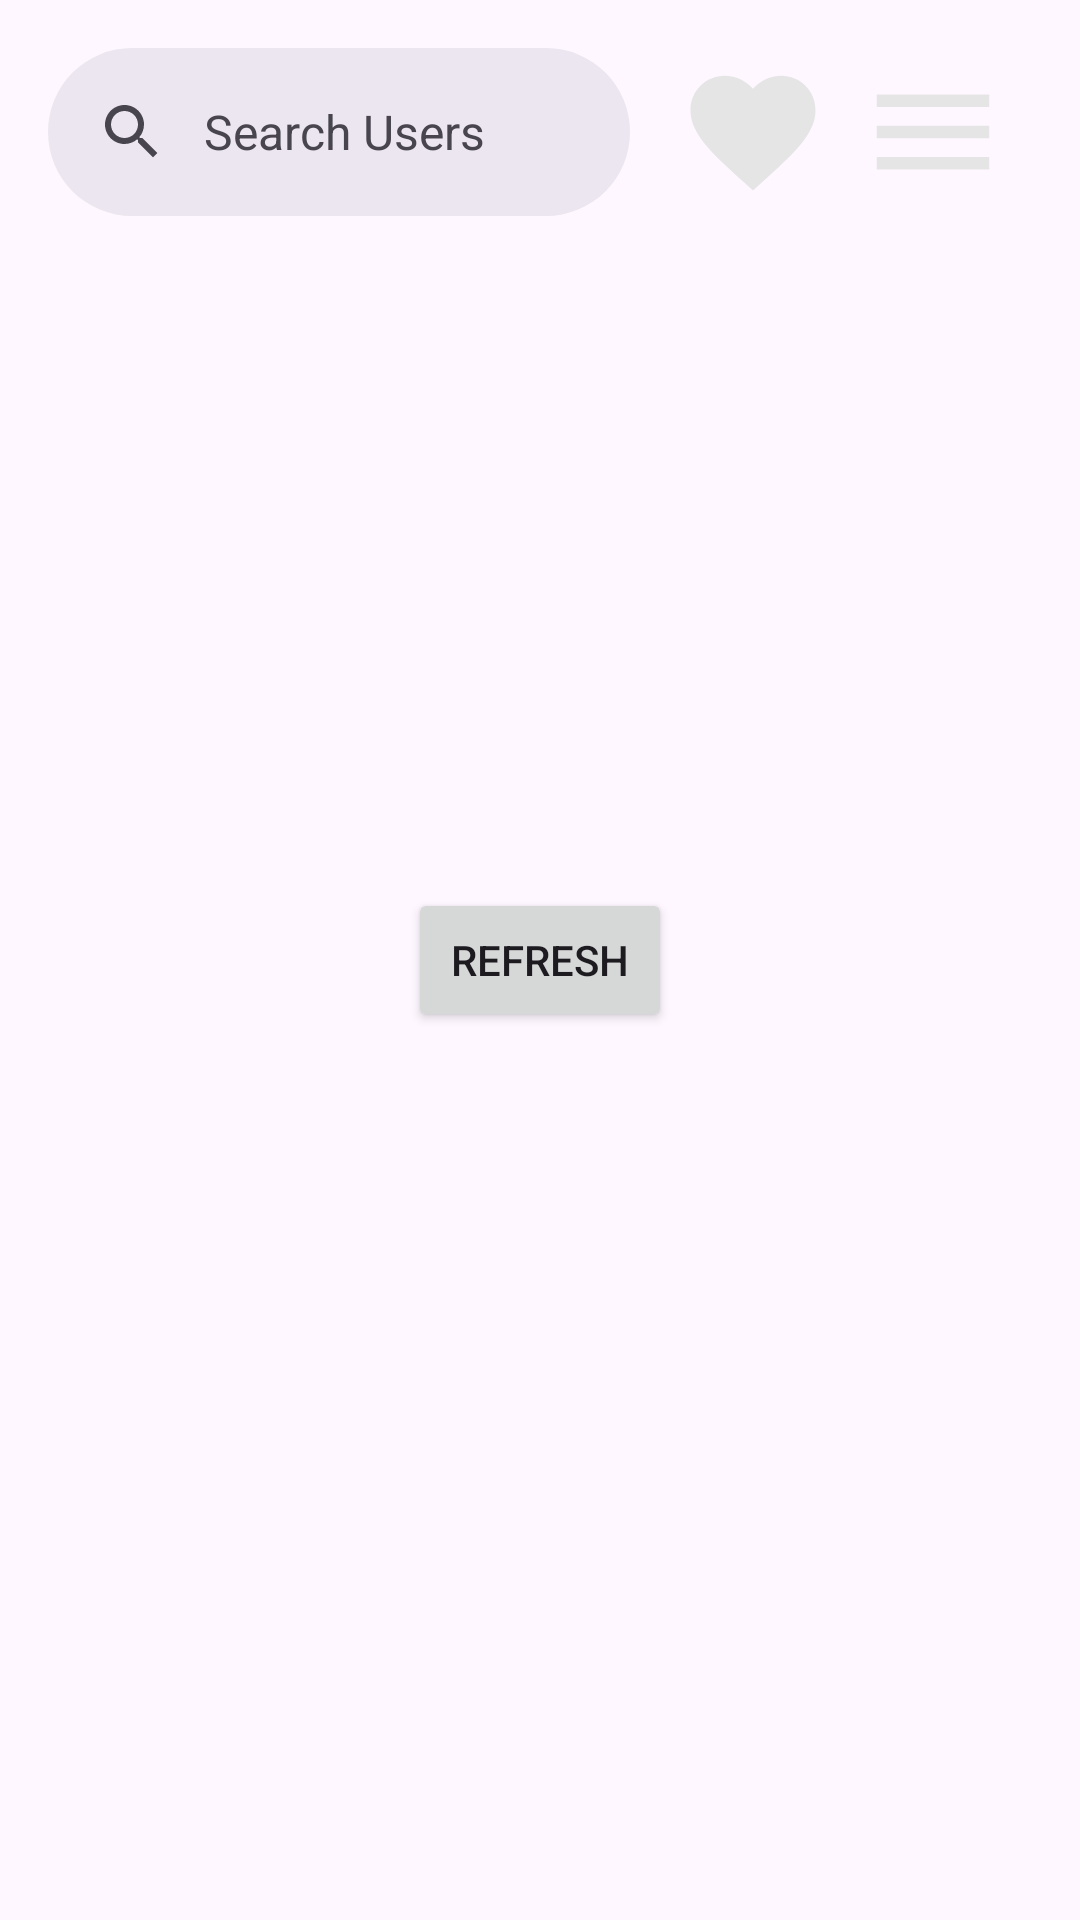

Point at icon controls on the screen. Image size 1080px×1920px, points as (x,y).
favorite: (753,132)
menu: (933,132)
